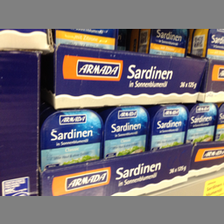fish: (40, 109, 103, 169), (104, 107, 149, 158), (150, 104, 187, 151), (188, 103, 218, 143)
